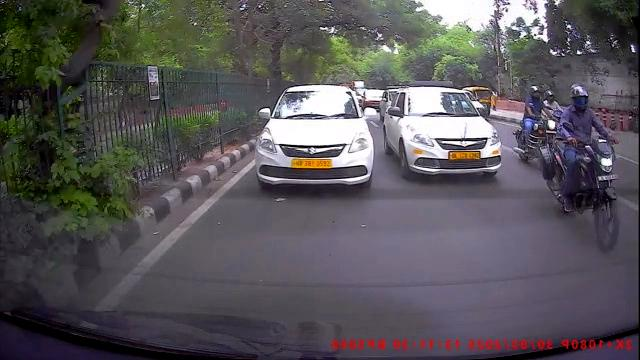motorcycle_with_helmet: (549, 81, 623, 252), (514, 82, 557, 172)
